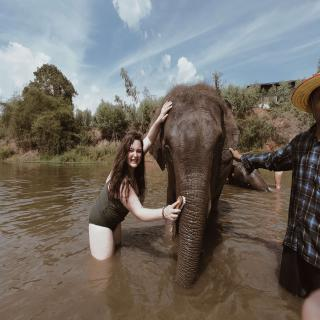Elephant: (144, 61, 236, 296)
